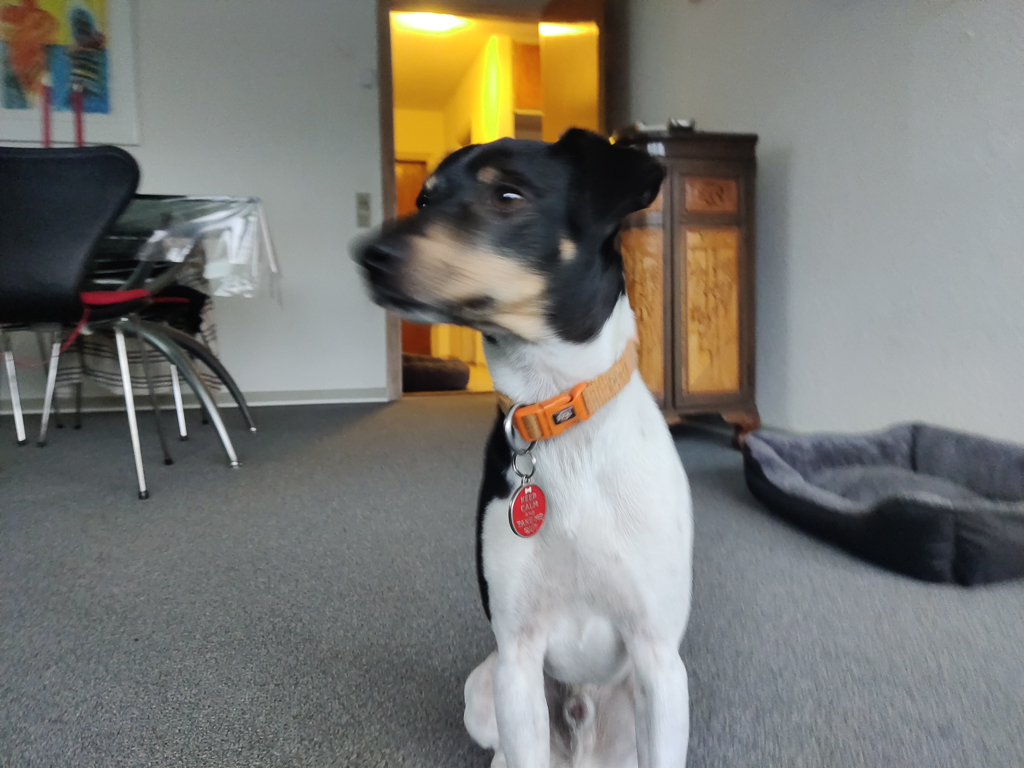Dog: (327, 113, 709, 768)
